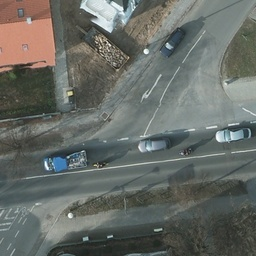car: (159, 26, 185, 57), (215, 124, 250, 143), (138, 135, 170, 154)
